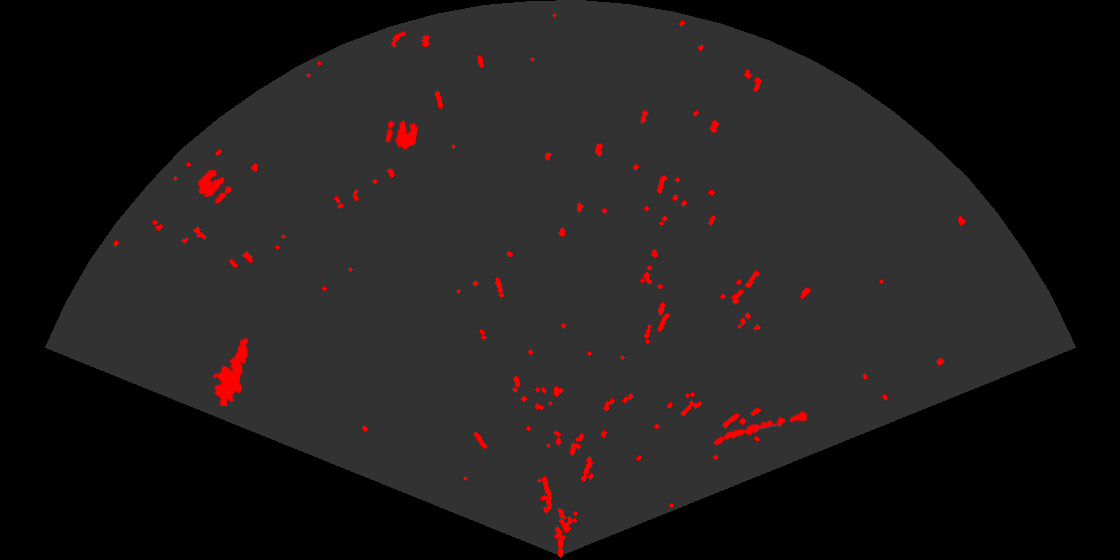ball: (196, 168, 233, 205), (384, 119, 419, 151)
chain: (712, 409, 810, 447)
frogman: (211, 336, 250, 406)
